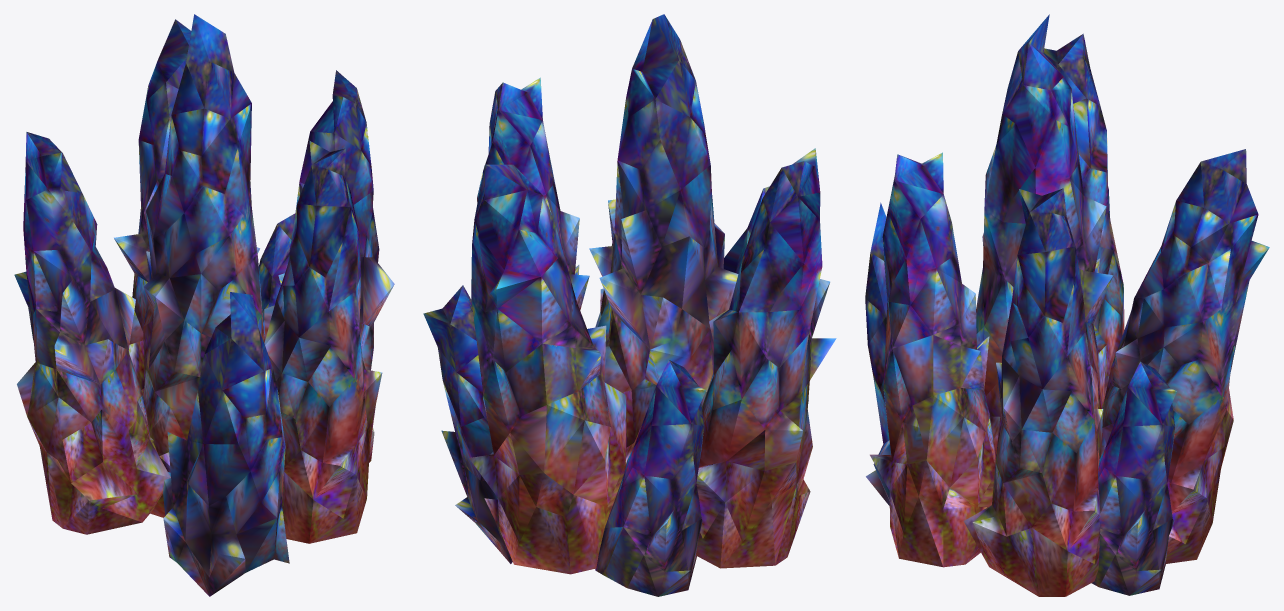
3 views of the same model, side by side, from view 1: azimuth 30°, elevation 25°; view 2: azimuth 150°, elevation 25°; view 3: azimuth 270°, elevation 25° (orthographic). The views are drawn at different scales.
Parts seen in each view (by area): view 1: sc011; view 2: sc011; view 3: sc011.
Part boxes in pixels (x1,y1,x2,y2): sc011: (14, 14, 394, 596); sc011: (423, 14, 836, 596); sc011: (865, 14, 1269, 596).
Size of the model in its own units: 228 by 335 by 229.
